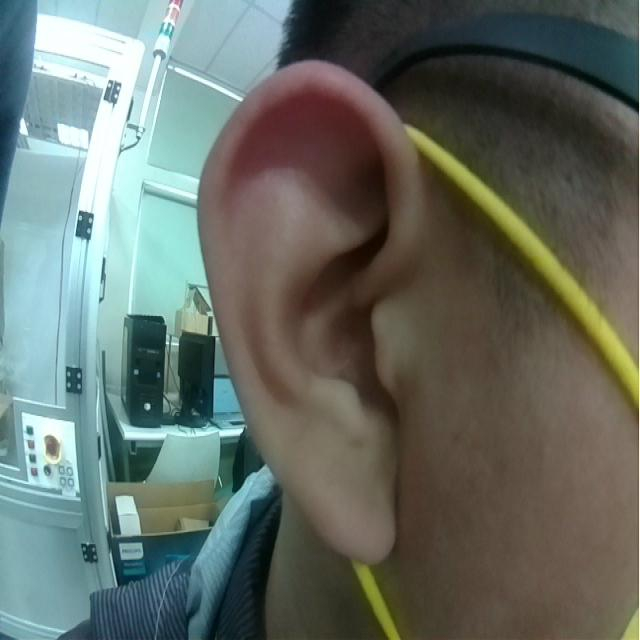no-earmuff: (195, 59, 418, 564)
